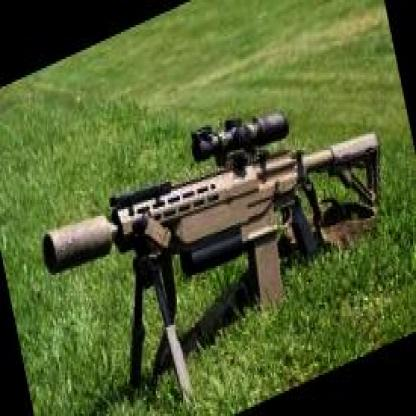rifle: (23, 50, 396, 384)
